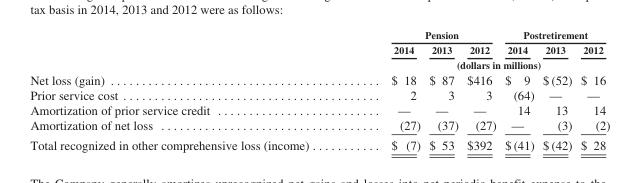table: (29, 28, 609, 151)
table column: (29, 28, 349, 151), (349, 28, 424, 151), (424, 28, 462, 151), (462, 28, 500, 151), (537, 28, 575, 151), (500, 28, 537, 151), (575, 28, 609, 151)
table column header: (29, 28, 609, 71)
table row: (29, 117, 609, 134), (29, 134, 609, 151), (29, 101, 609, 117), (29, 42, 609, 57), (29, 71, 609, 86), (29, 86, 609, 101), (29, 28, 609, 42), (29, 57, 609, 71)
table spanning cell: (349, 57, 609, 71), (349, 28, 500, 42), (500, 28, 609, 42)
